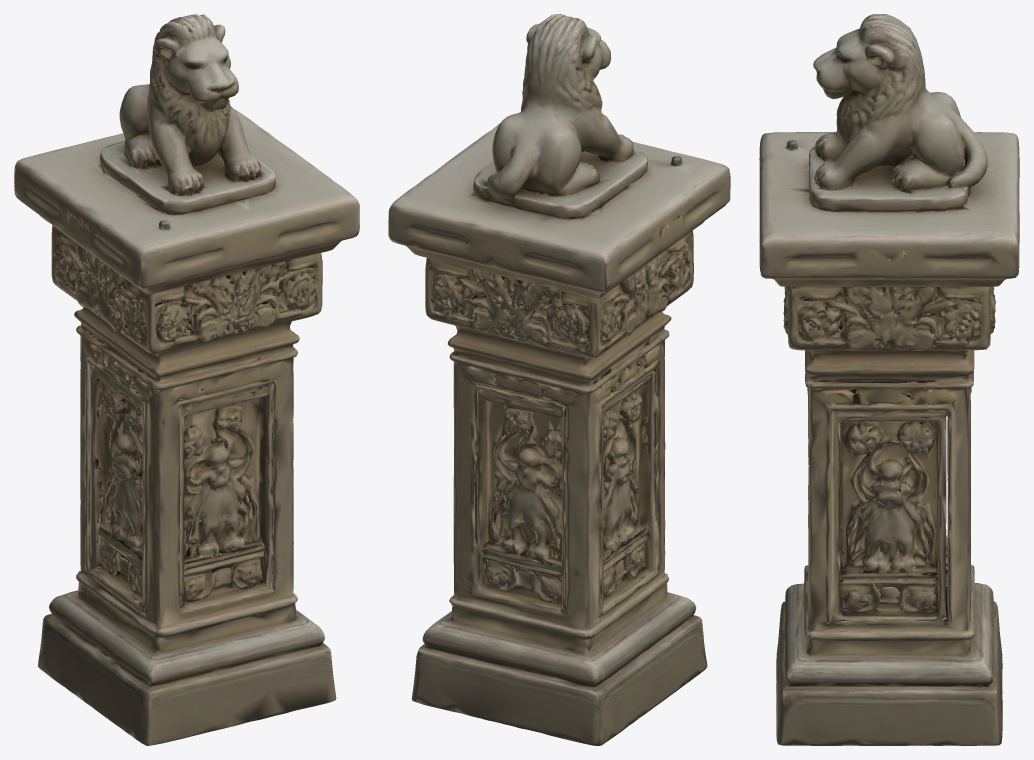
File: gate-post-top-carved-lion-optimized (1).glb
3 views of the same model, side by side, from view 1: azimuth 30°, elevation 25°; view 2: azimuth 150°, elevation 25°; view 3: azimuth 270°, elevation 25° (orthographic). The views are drawn at different scales.
Visible parts, largest first — view 1: world; view 2: world; view 3: world.
Boxes of the visible parts, <box> form: world: <box>14,14,359,745</box>; world: <box>388,14,730,745</box>; world: <box>759,14,1019,745</box>.
Bounding box in the file's own units: 0.4159 × 1.2 × 0.4159.
1 material, 1 textured.
